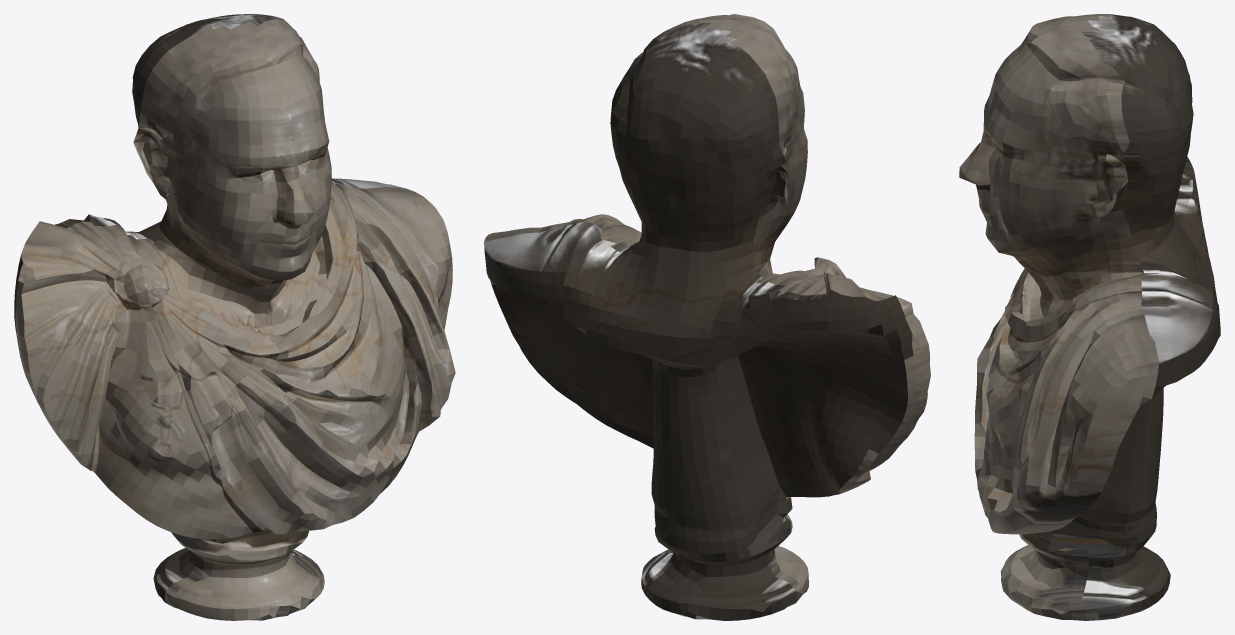
File: goldenbibi.glb
3 views of the same model, side by side, from view 1: azimuth 30°, elevation 25°; view 2: azimuth 150°, elevation 25°; view 3: azimuth 270°, elevation 25° (orthographic).
Visible parts, largest first — view 1: beebee; view 2: beebee; view 3: beebee.
Boxes of the visible parts, bbox=[...] form: beebee: bbox=[14, 14, 455, 620]; beebee: bbox=[484, 14, 930, 620]; beebee: bbox=[959, 14, 1220, 620].
Size of the model in its own units: 4.07 by 5.14 by 2.15.
Materials: 1 (1 with a texture image).
